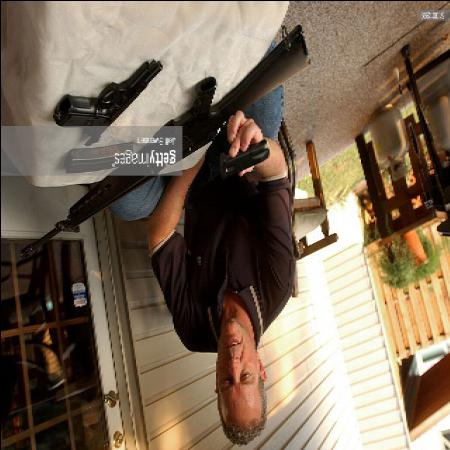2: (13, 15, 314, 264)
Pistol: (52, 58, 172, 151)
